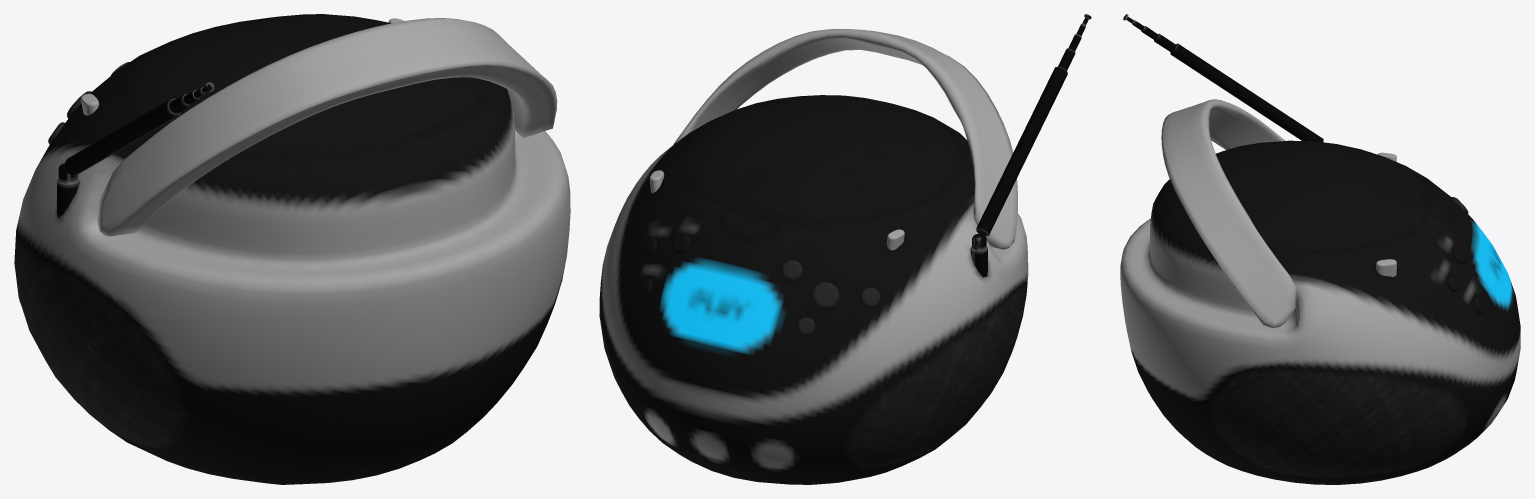
The model's file is BoomBox.gltf.
3 views of the same model, side by side, from view 1: azimuth 30°, elevation 25°; view 2: azimuth 150°, elevation 25°; view 3: azimuth 270°, elevation 25° (orthographic). The views are drawn at different scales.
Parts seen in each view (by area): view 1: BoomBox; view 2: BoomBox; view 3: BoomBox.
Part boxes in pixels (left/top/right/bottom): BoomBox: left=14, top=14, right=570, bottom=484; BoomBox: left=599, top=14, right=1091, bottom=484; BoomBox: left=1120, top=14, right=1520, bottom=484.
Bounding box in the file's own units: 0.0198 × 0.0195 × 0.0202.
Materials: 1 (1 with a texture image).
